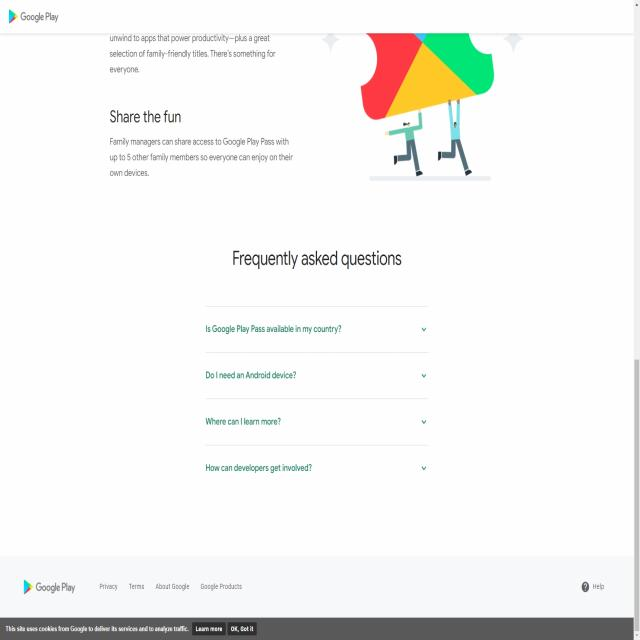menu-bar: (90, 574, 246, 598)
